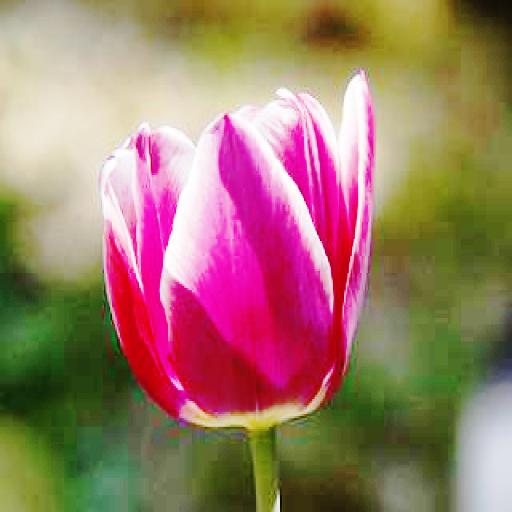tulip: (101, 70, 376, 424)
